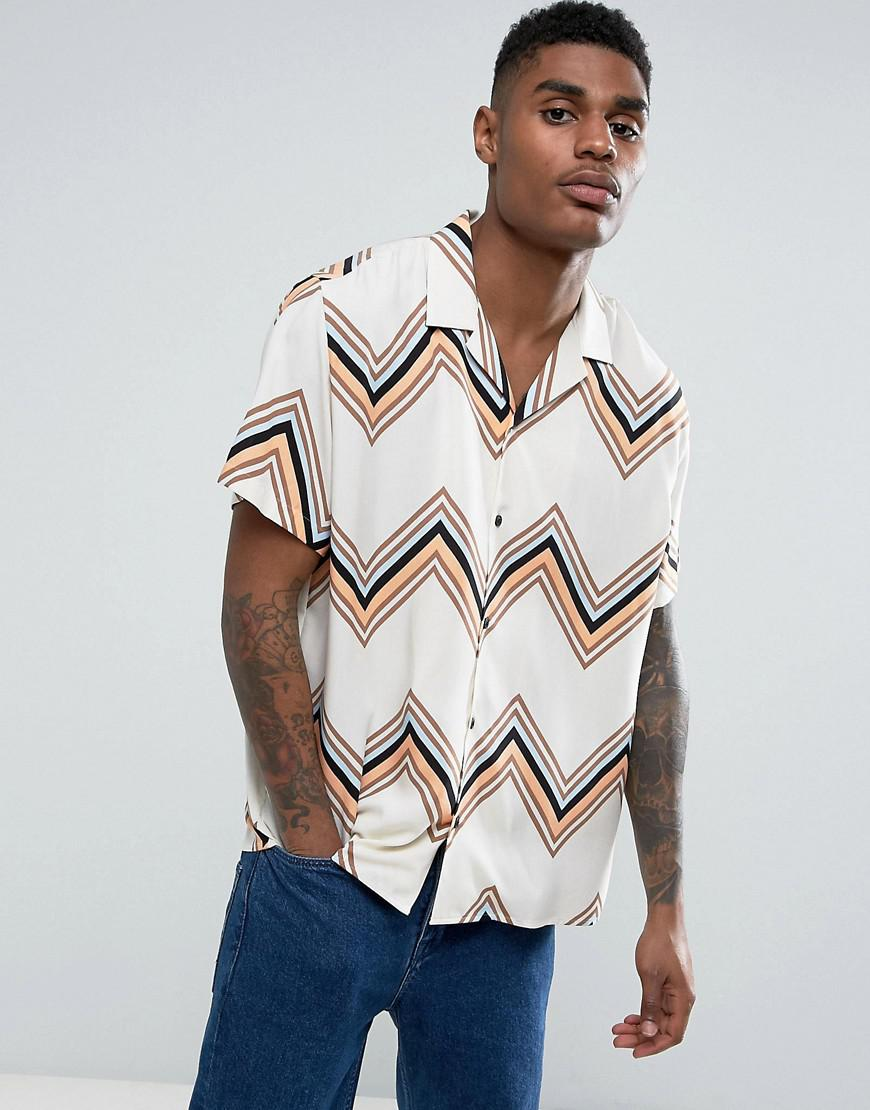teeshirt: (217, 205, 690, 962)
